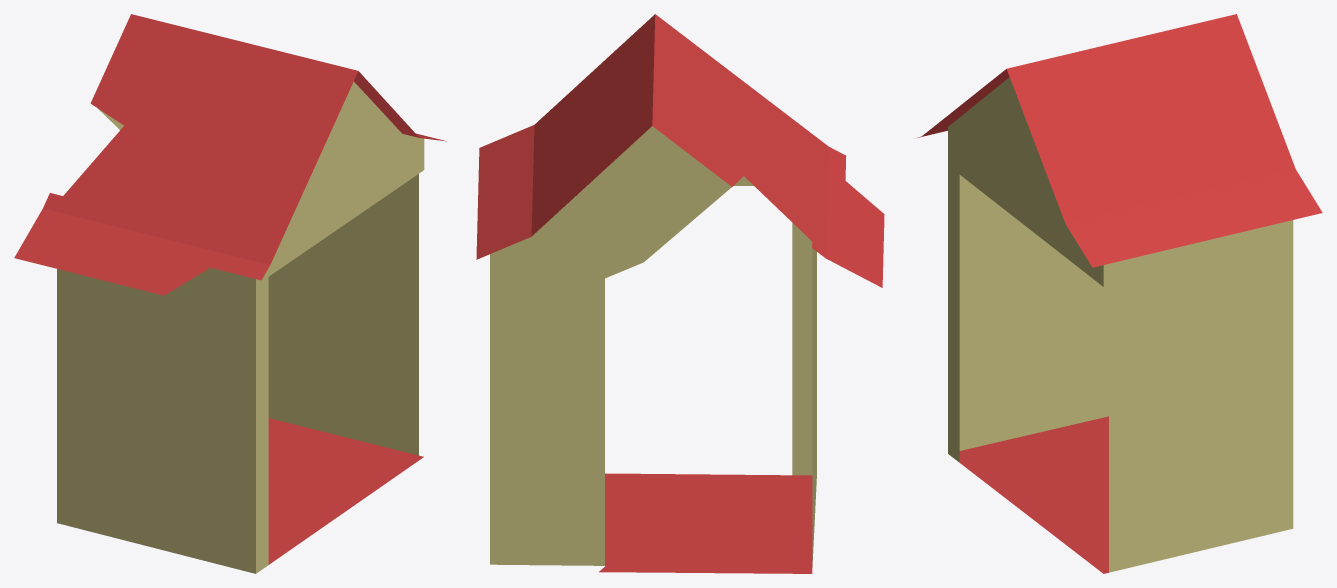
3 views of the same model, side by side, from view 1: azimuth 30°, elevation 25°; view 2: azimuth 150°, elevation 25°; view 3: azimuth 270°, elevation 25° (orthographic).
Bounding box in the file's own units: 16.56 × 14.06 × 17.02.
